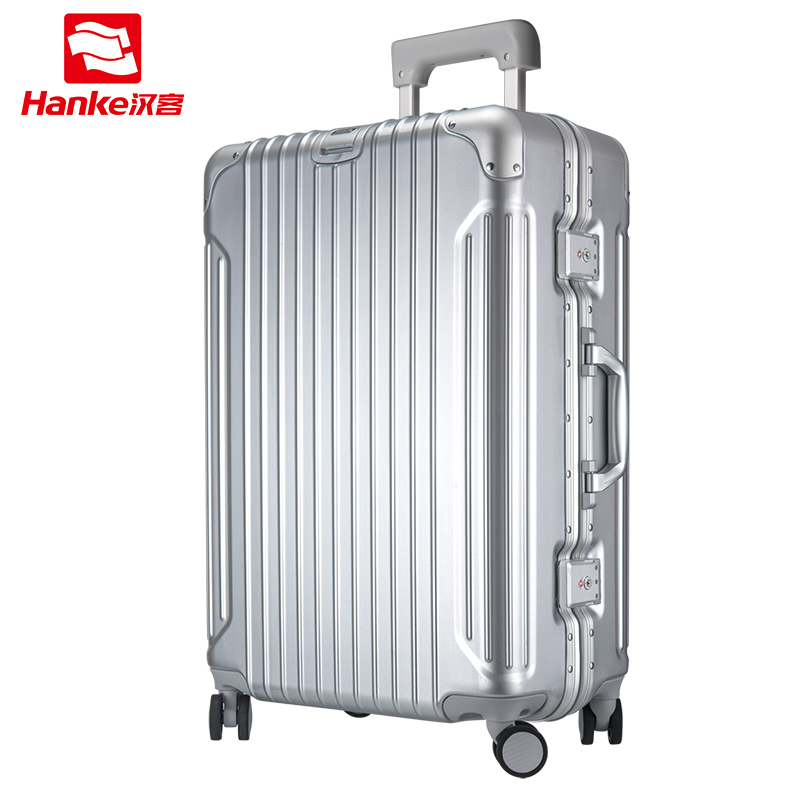box: (205, 107, 631, 722)
handle: (578, 324, 628, 511)
lock: (556, 230, 602, 281), (561, 559, 602, 608)
wheel: (492, 720, 549, 779), (579, 695, 623, 746), (208, 693, 254, 740)
